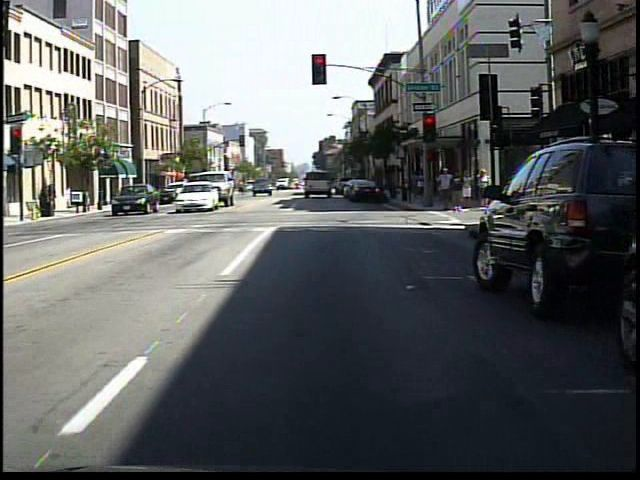person: (436, 164, 455, 213), (474, 166, 493, 211), (412, 165, 429, 205), (450, 168, 465, 213), (460, 168, 475, 210), (233, 173, 250, 202)
